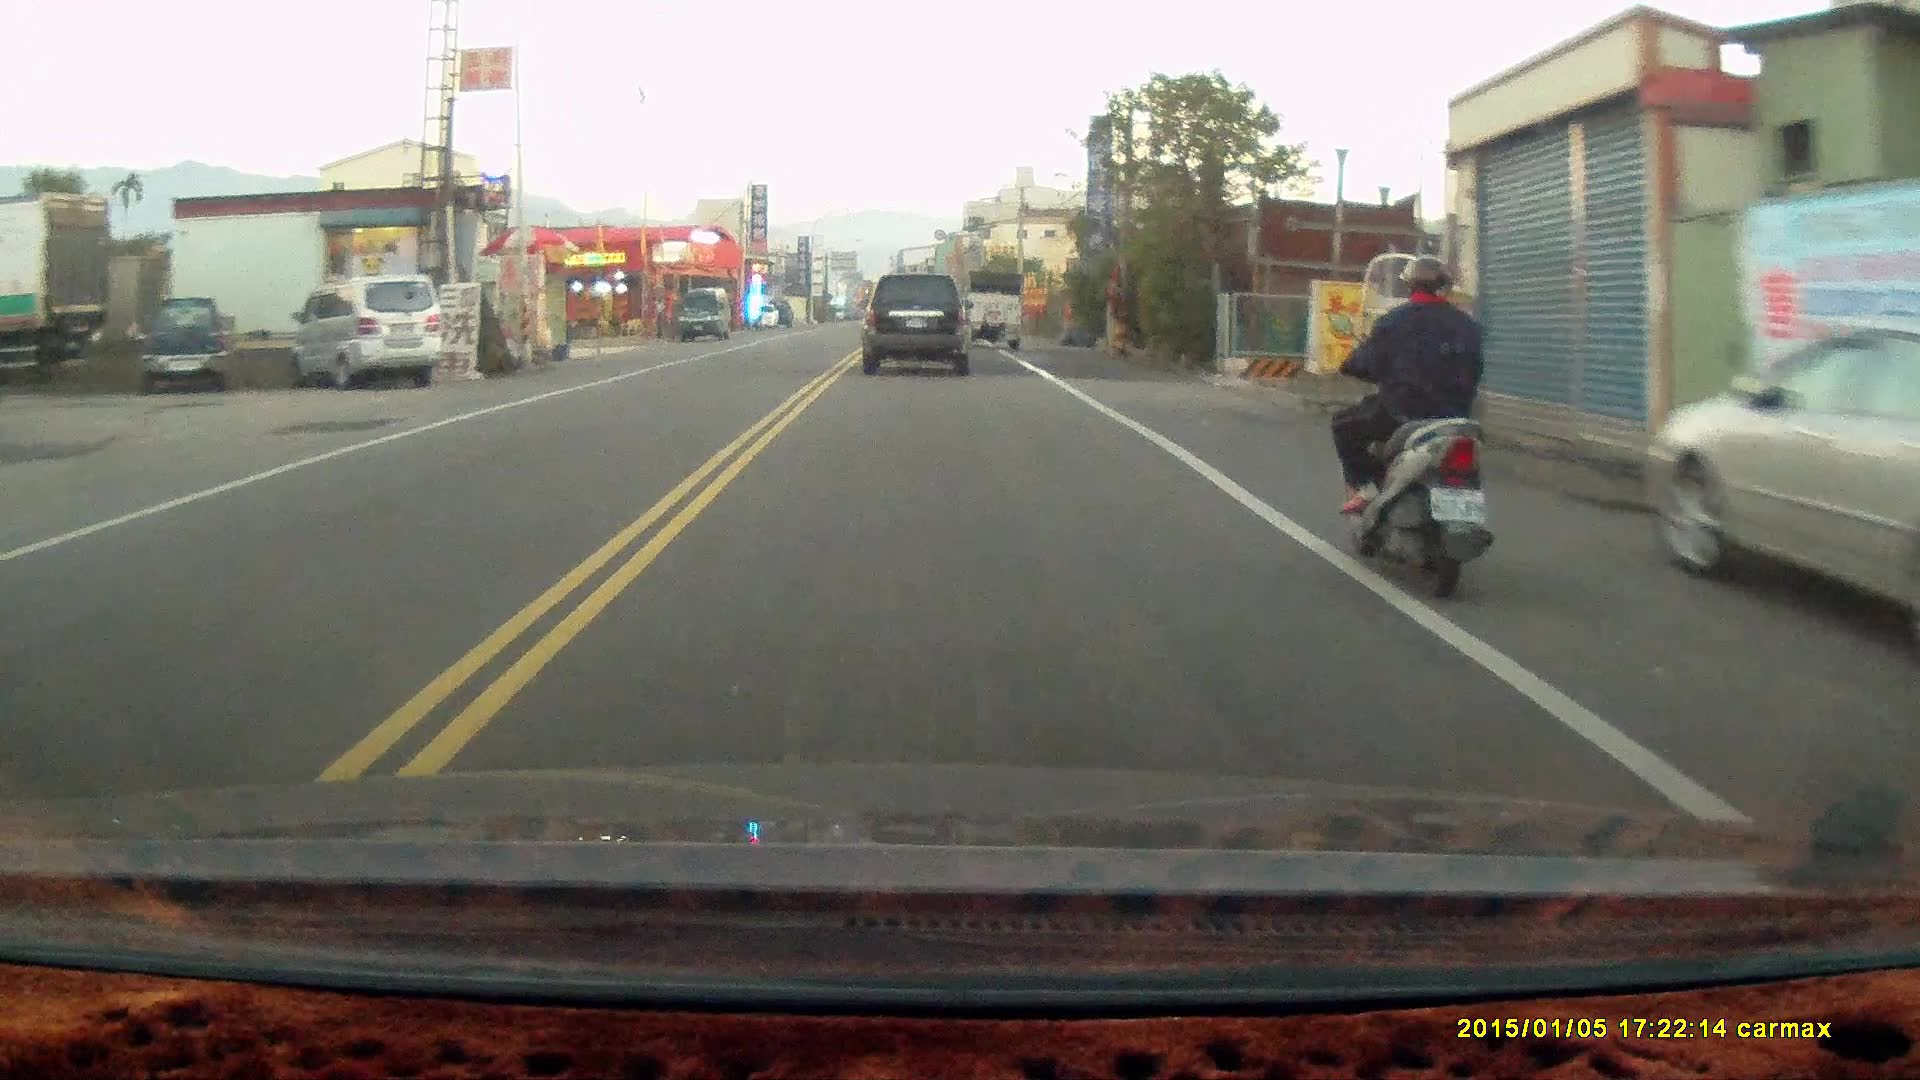rider: (1334, 254, 1502, 603)
vehicle: (1636, 315, 1919, 675), (291, 272, 443, 388), (861, 270, 978, 376), (145, 297, 226, 392), (965, 271, 1026, 350), (679, 288, 734, 342)
